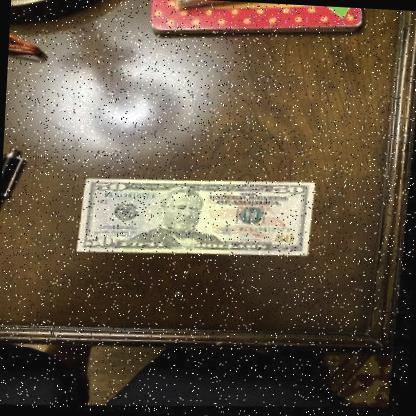fifty-front: (78, 171, 317, 267)
